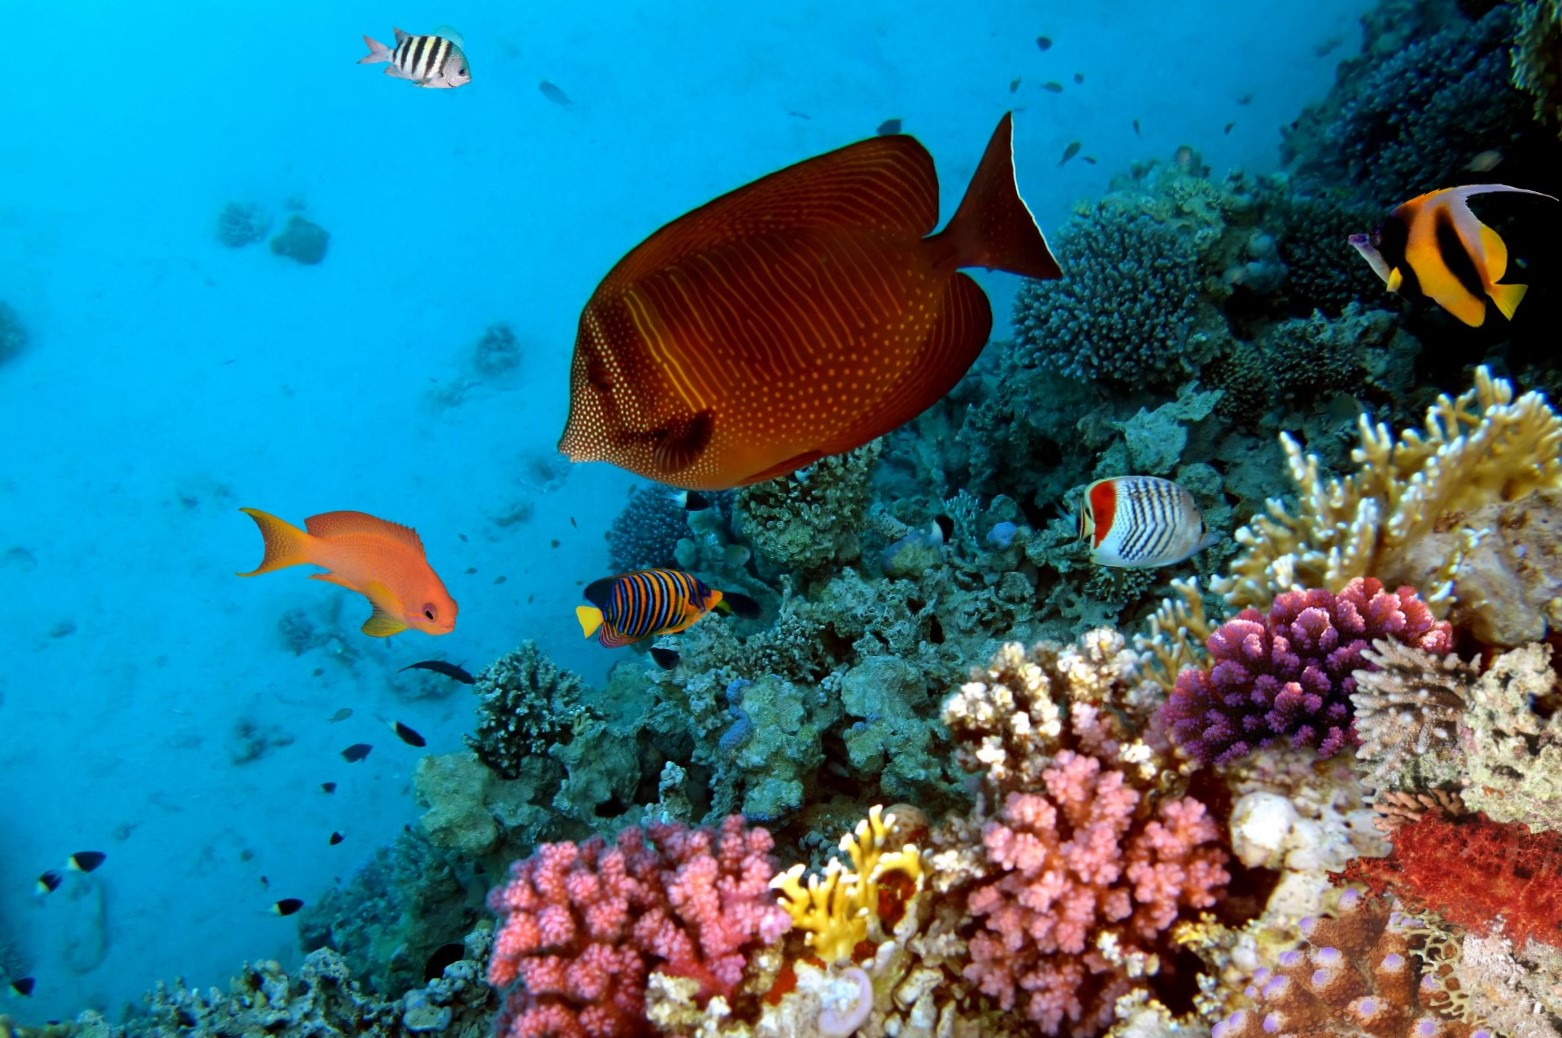big fish: (557, 102, 1044, 492), (1342, 161, 1559, 337), (221, 490, 459, 646)
small fish: (342, 16, 478, 101), (579, 564, 723, 641), (389, 652, 484, 694), (914, 514, 965, 556), (639, 639, 688, 677), (1049, 132, 1087, 176)
